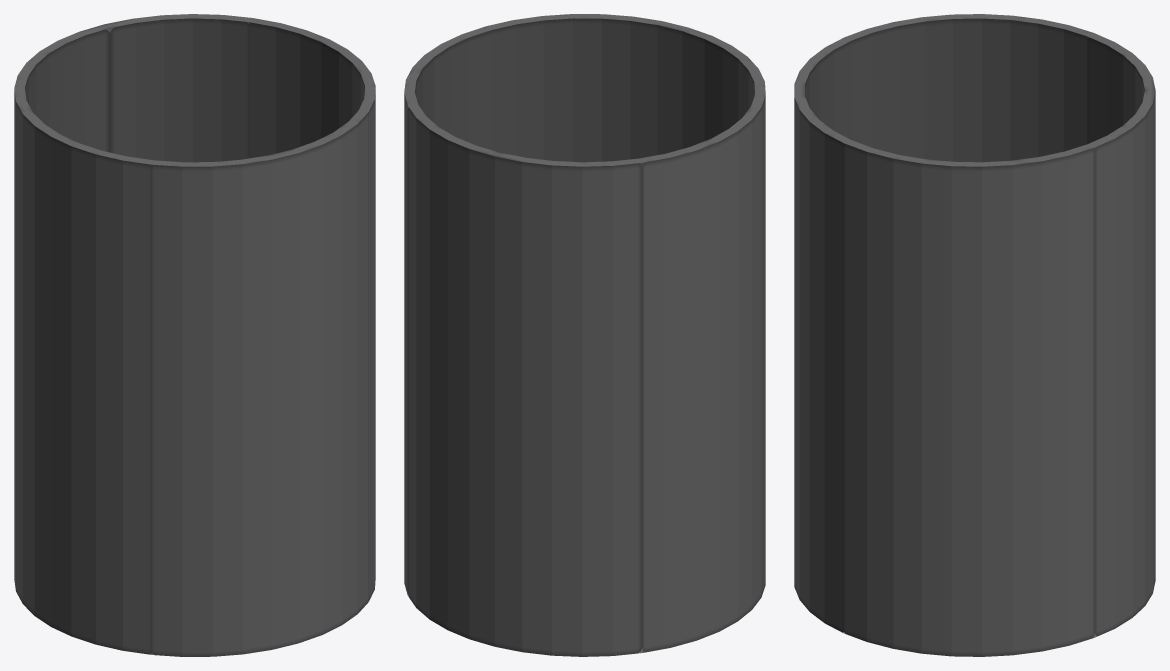
Rendered from TunnelExtension.fbx.
3 views of the same model, side by side, from view 1: azimuth 30°, elevation 25°; view 2: azimuth 150°, elevation 25°; view 3: azimuth 270°, elevation 25° (orthographic).
Visible parts, largest first — view 1: tube; view 2: tube; view 3: tube.
Boxes of the visible parts, <box> form: tube: <box>14,14,375,656</box>; tube: <box>404,14,765,656</box>; tube: <box>794,14,1155,656</box>.
Size of the model in its own units: 201 by 300 by 200.
Materials: 1 (1 with a texture image).
